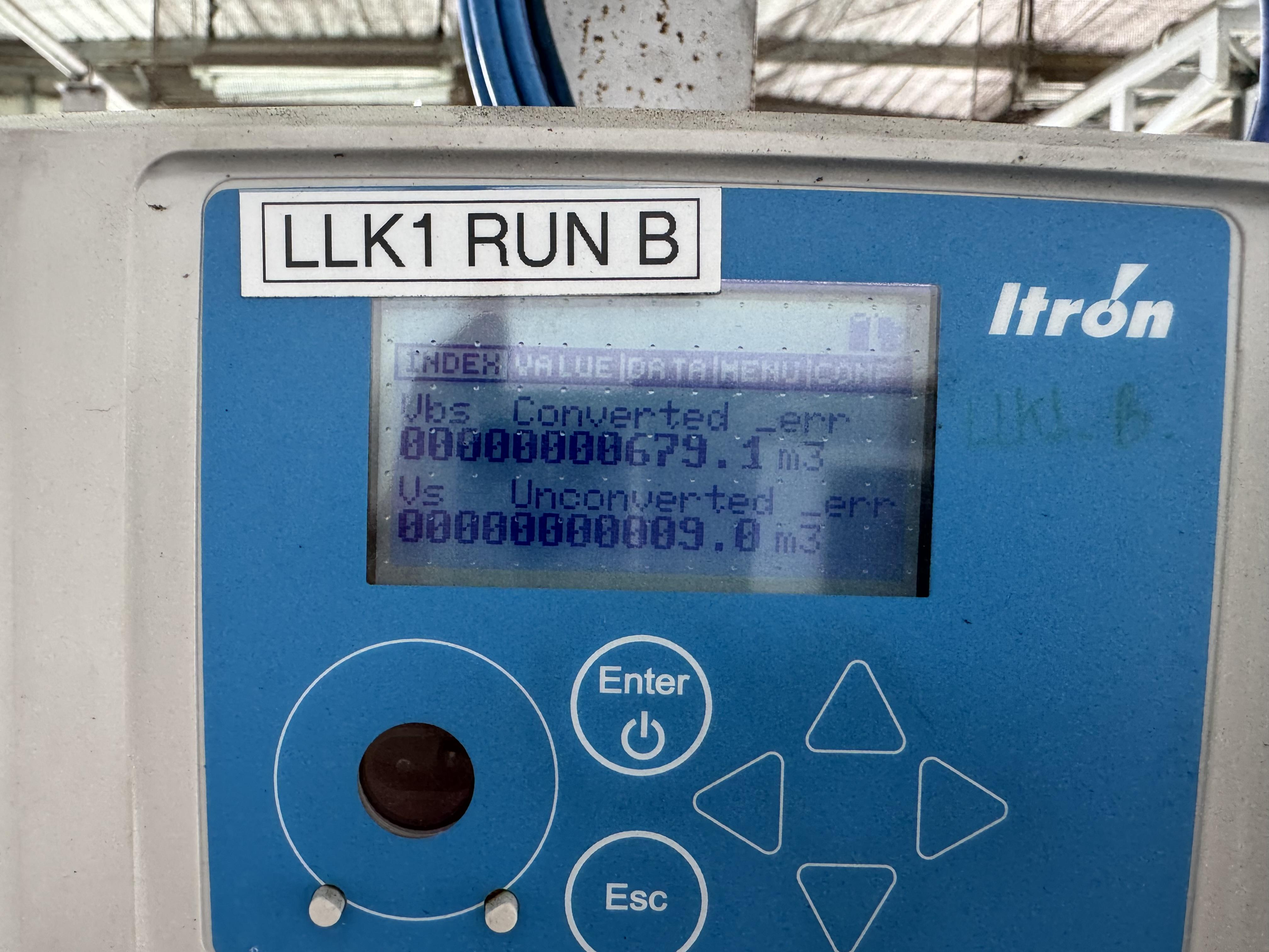digital_screen: (365, 273, 938, 596)
